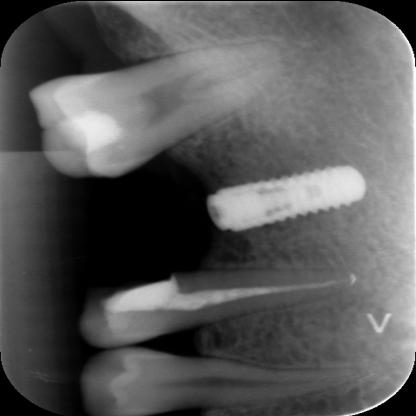ITI: (177, 151, 377, 239)
